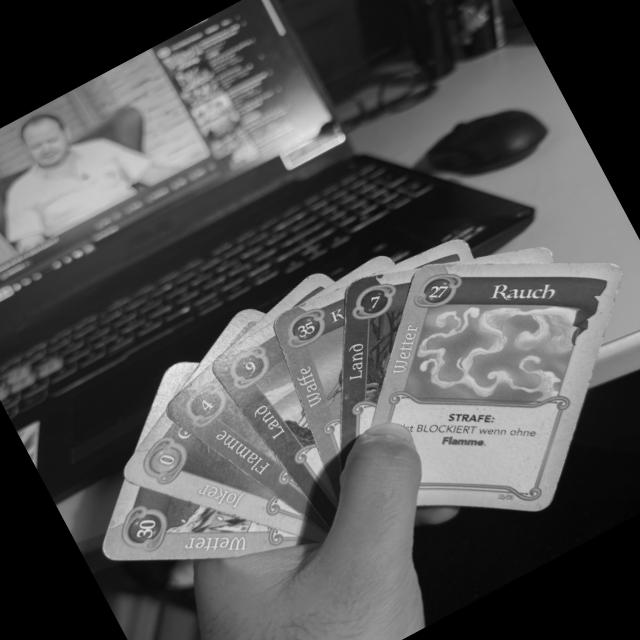Blizzard: (95, 481, 310, 559)
Fire Elemental: (163, 369, 334, 531)
Forest: (340, 269, 413, 449)
Mountain: (209, 323, 336, 528)
Shapeshifter: (121, 411, 328, 546)
Smoke: (370, 263, 623, 513)
War Dirigable: (274, 287, 343, 493)
